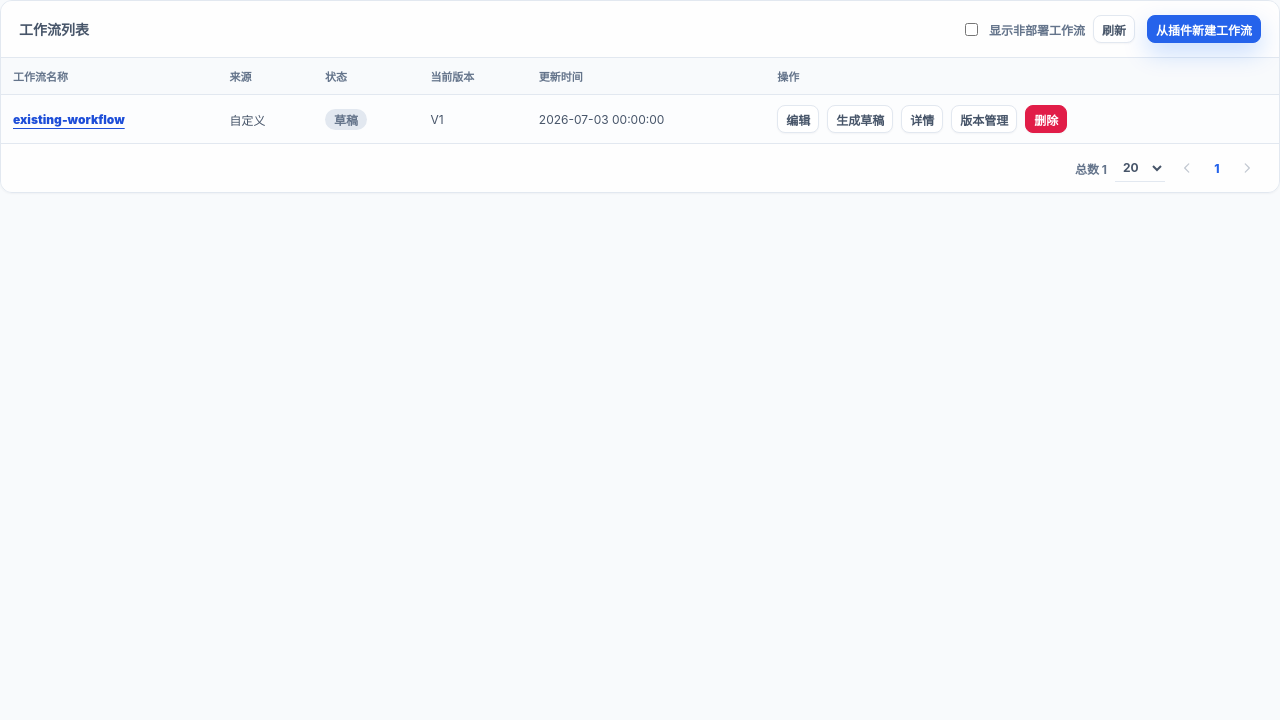
Scenario: WorkflowTemplatesView › 详情版本列表只展示当前 Workflow DSL 合同
The image size is (1280, 720).
Click the button "详情" at (922, 119), box [901,105,943,133]
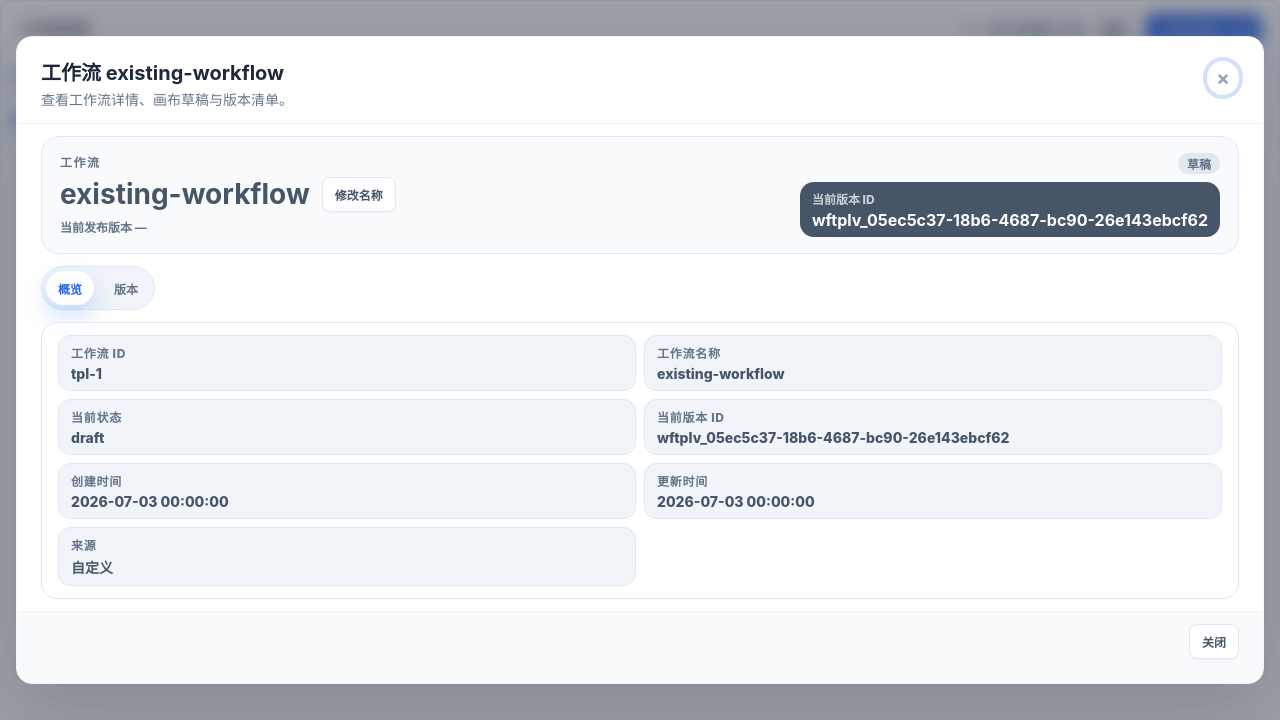
Now the button "版本" is shown
Click the button "版本" at (126, 288), box [102,271,150,305]
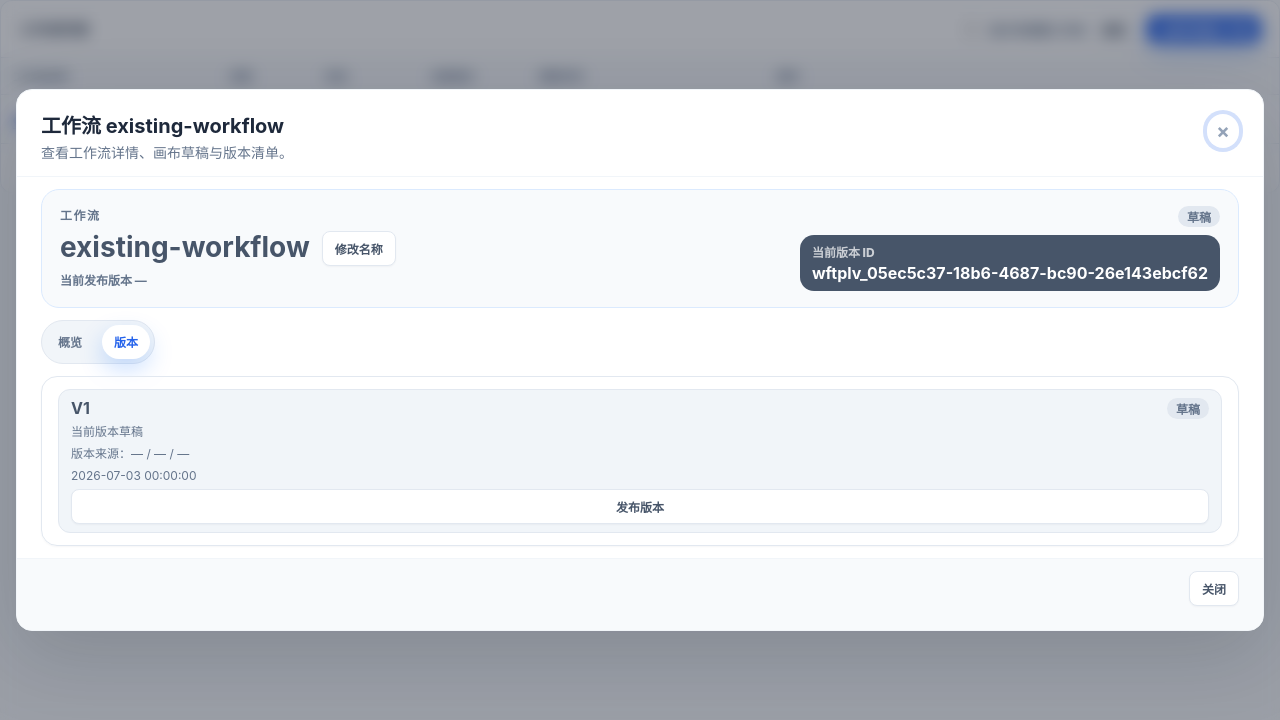
Now the text "当前版本草稿" is shown, box [71,424,143,438]
